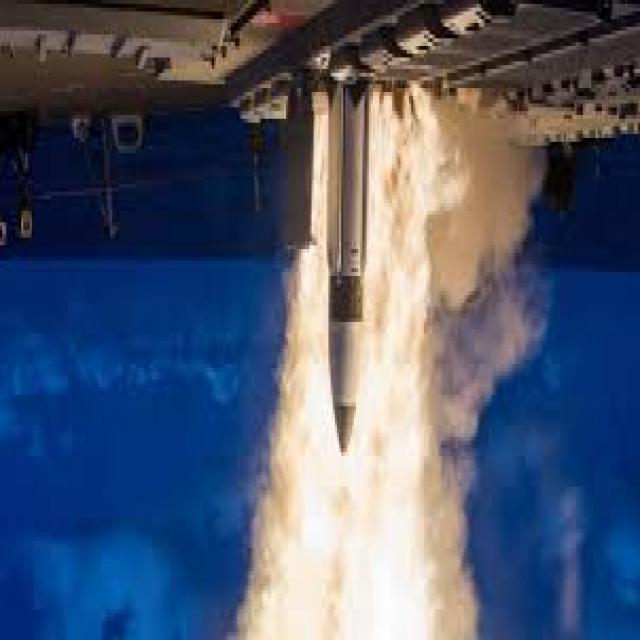missile: (325, 71, 370, 458)
